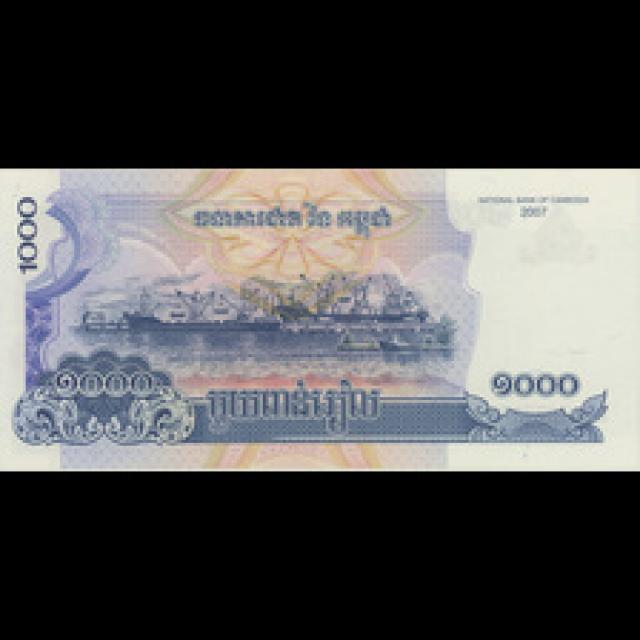banknote: (1, 167, 640, 466), (12, 185, 49, 280)
